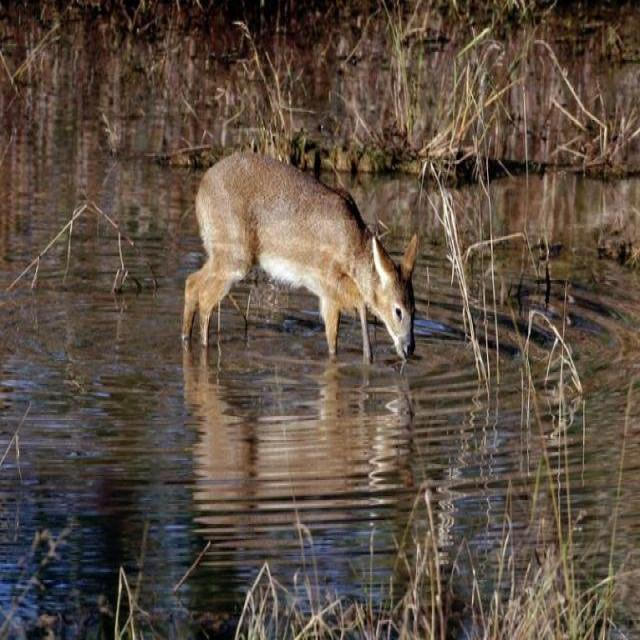deer: (168, 140, 432, 391)
